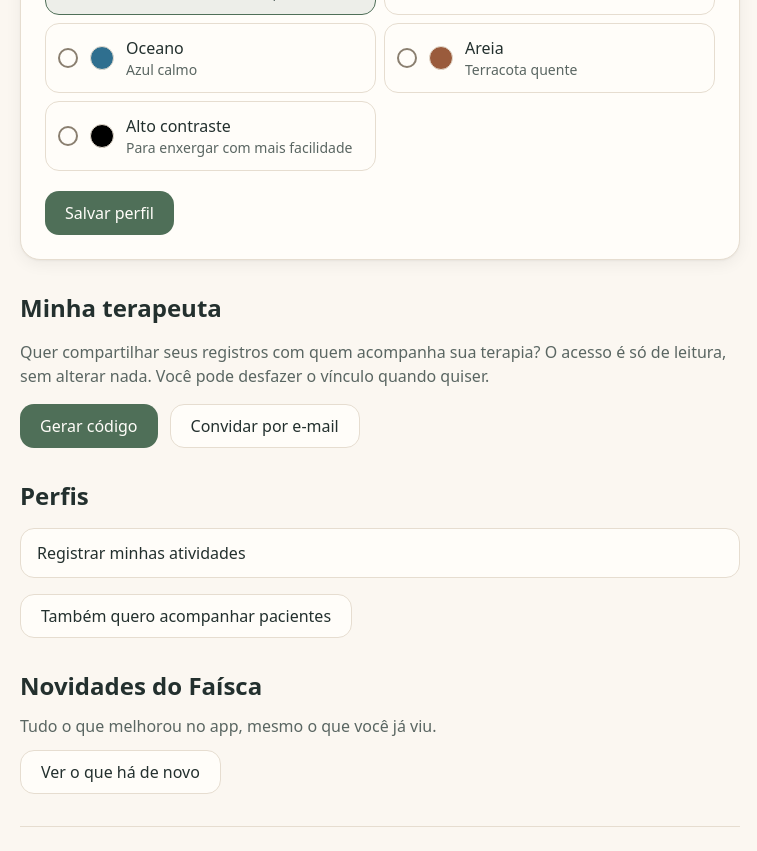
Test case: /conta: minha terapeuta › copia o código
The image size is (757, 851).
(page scrolled)
Click the button "Gerar código".
click(89, 426)  # box [20,404,158,448]
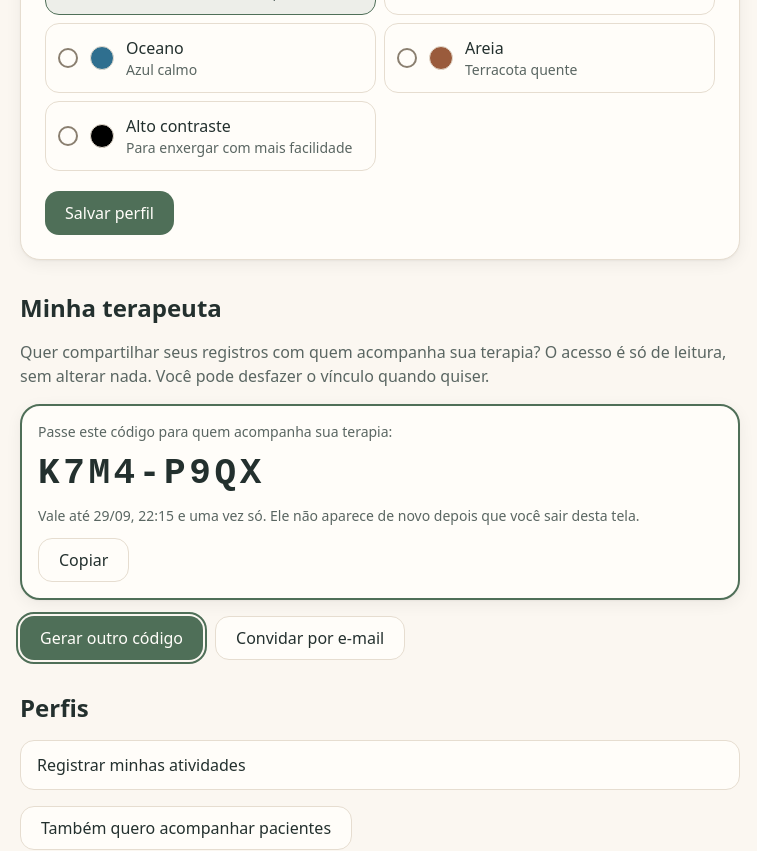
Click the button "Copiar".
click(84, 560)  # box [38,538,129,582]
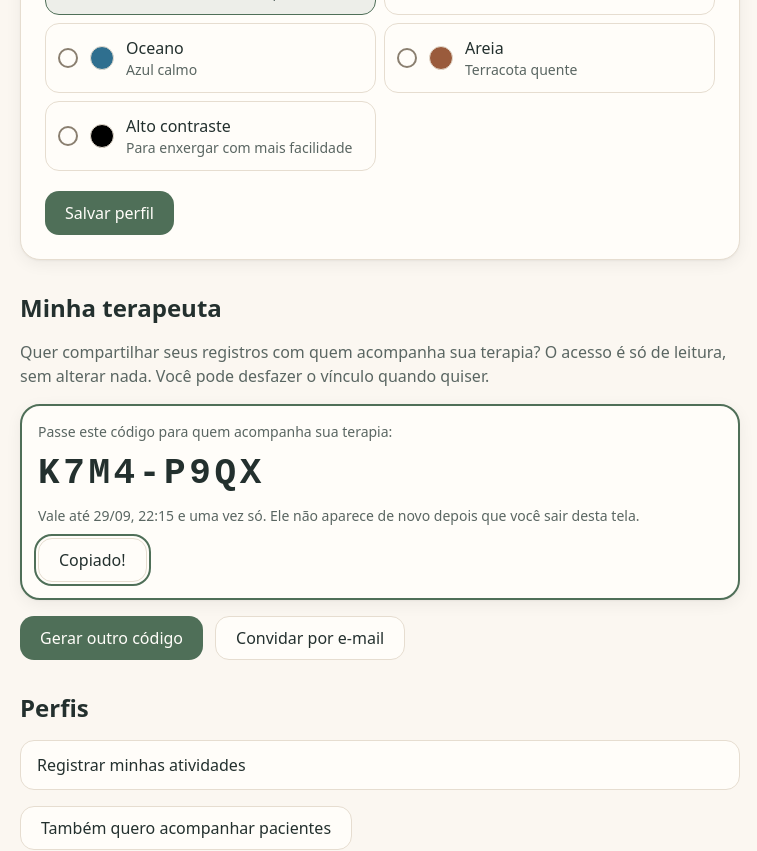
expect the button "Copiado!" is shown: met, box [38,538,147,582]
